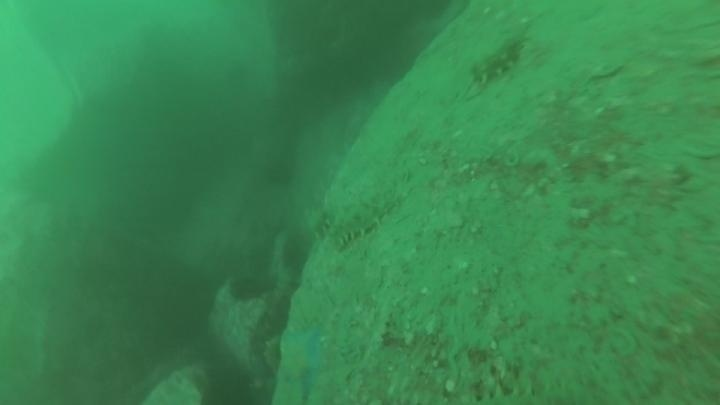echinus: (226, 270, 274, 305)
holothurian: (322, 176, 411, 250), (466, 26, 532, 89)
starfish: (277, 323, 330, 405)
